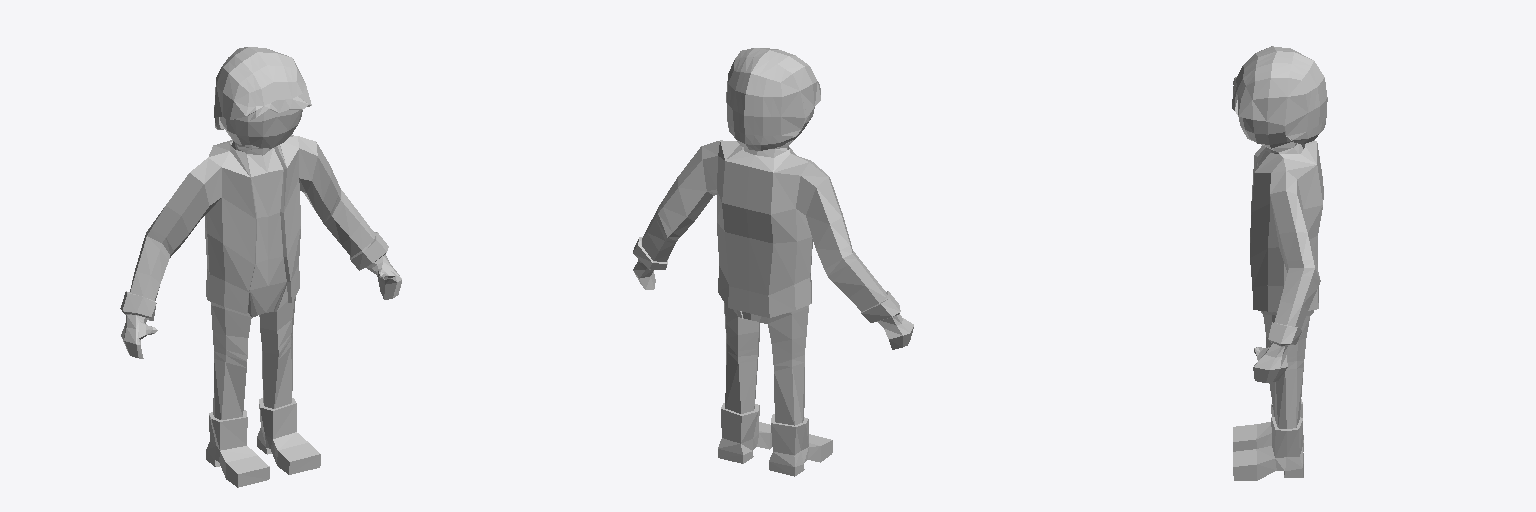
The model's file is AetherBattleToon.obj.
3 views of the same model, side by side, from view 1: azimuth 30°, elevation 25°; view 2: azimuth 150°, elevation 25°; view 3: azimuth 270°, elevation 25° (orthographic).
Parts seen in each view (by area): view 1: Cube_Cube.001; view 2: Cube_Cube.001; view 3: Cube_Cube.001.
Part boxes in pixels (bbox=[...]): Cube_Cube.001: bbox=[120, 47, 401, 487]; Cube_Cube.001: bbox=[633, 48, 913, 476]; Cube_Cube.001: bbox=[1232, 46, 1327, 480].
Size of the model in its own units: 9.78 by 13.95 by 2.95.